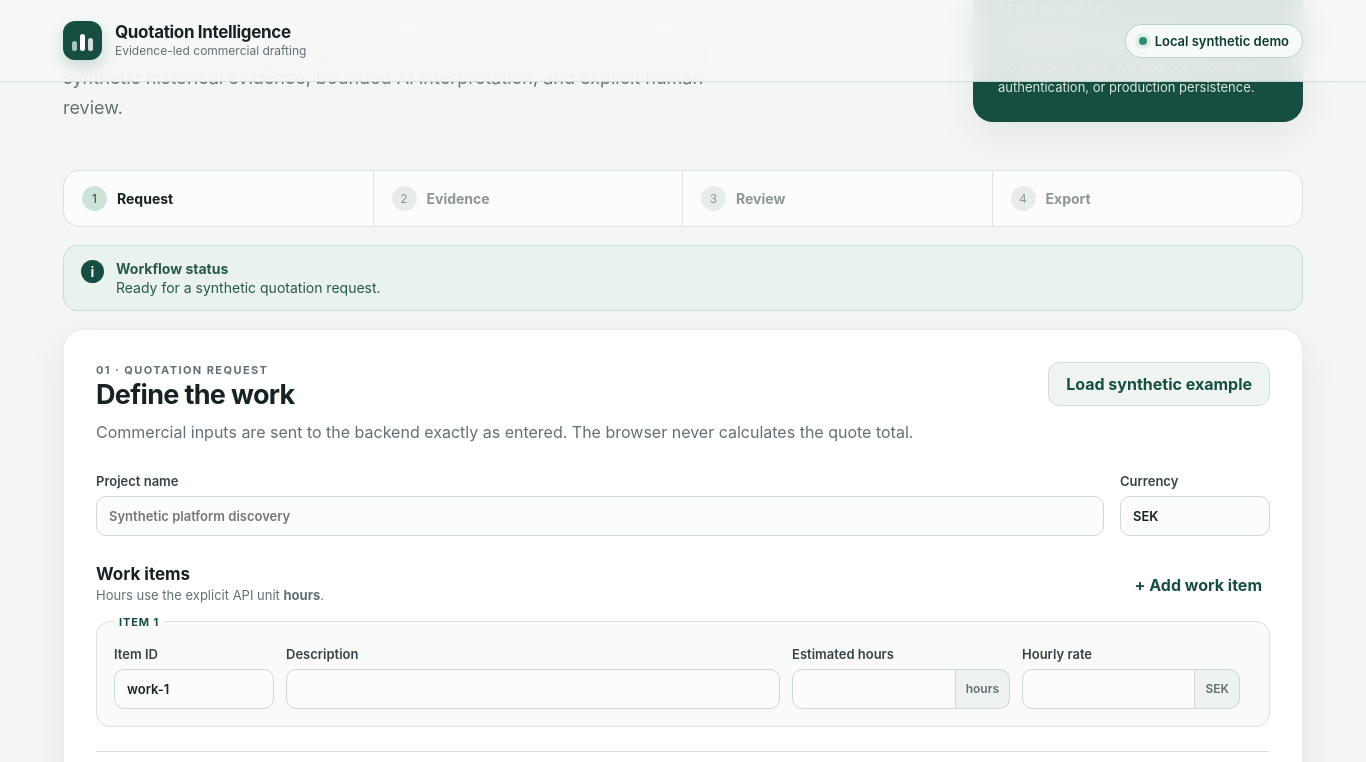
Test: C20 quotation workflow › presents insufficient_evidence without a false successful draft
(page scrolled)
Click the button "Load synthetic example": (1159, 384) [1048,362,1270,406]
(page scrolled)
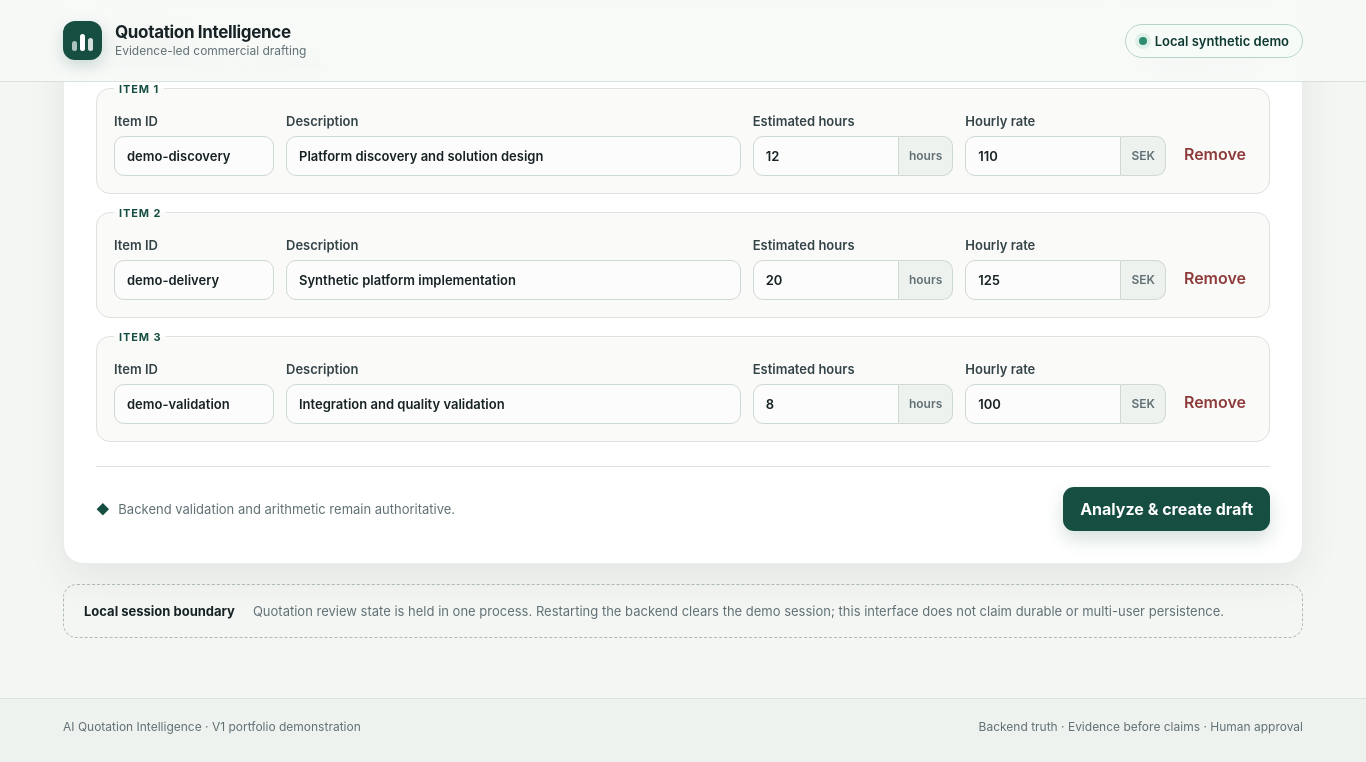
Click the button "Analyze & create draft": (1167, 509) [1063,487,1270,531]
(page scrolled)
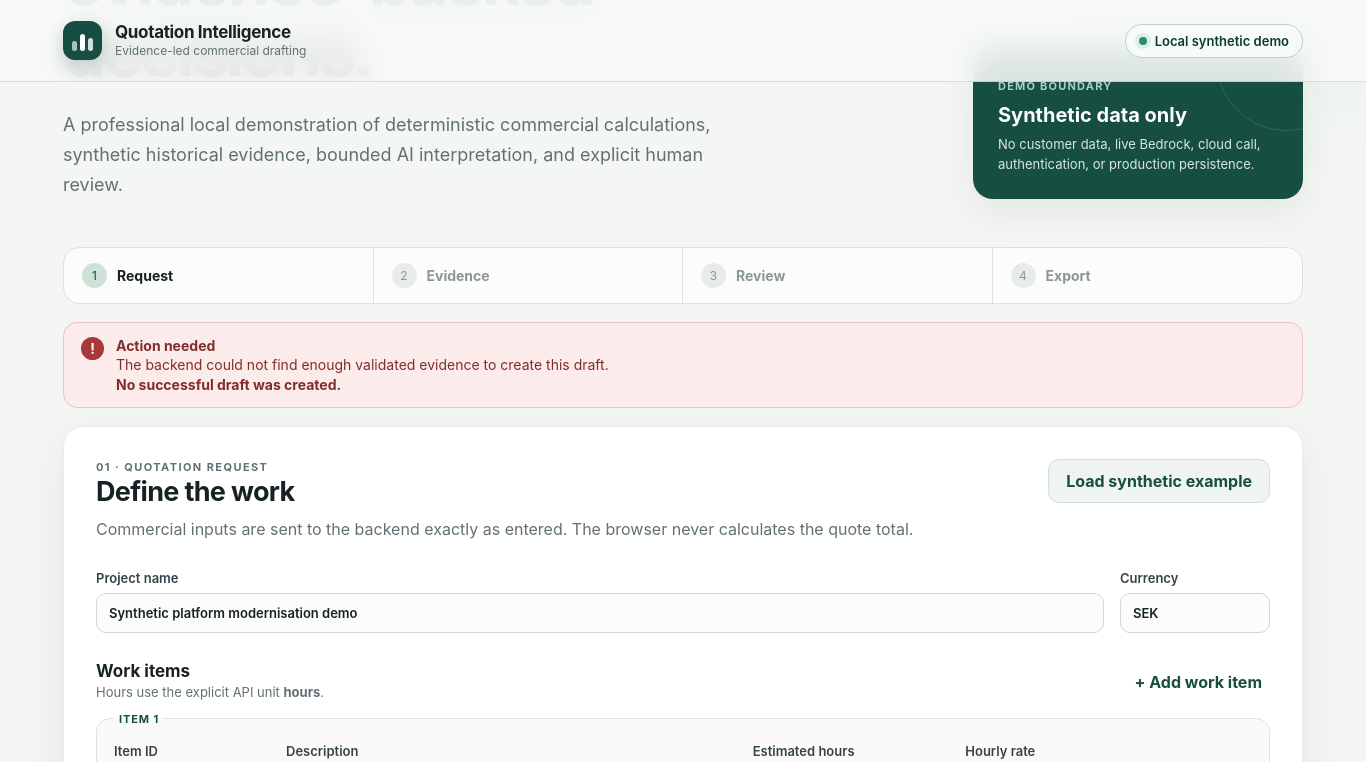
Expected: the text "could not find enough validated evidence" is shown, [116,356,609,373]
Expected: the text "No successful draft was created." is shown, [116,376,341,393]
